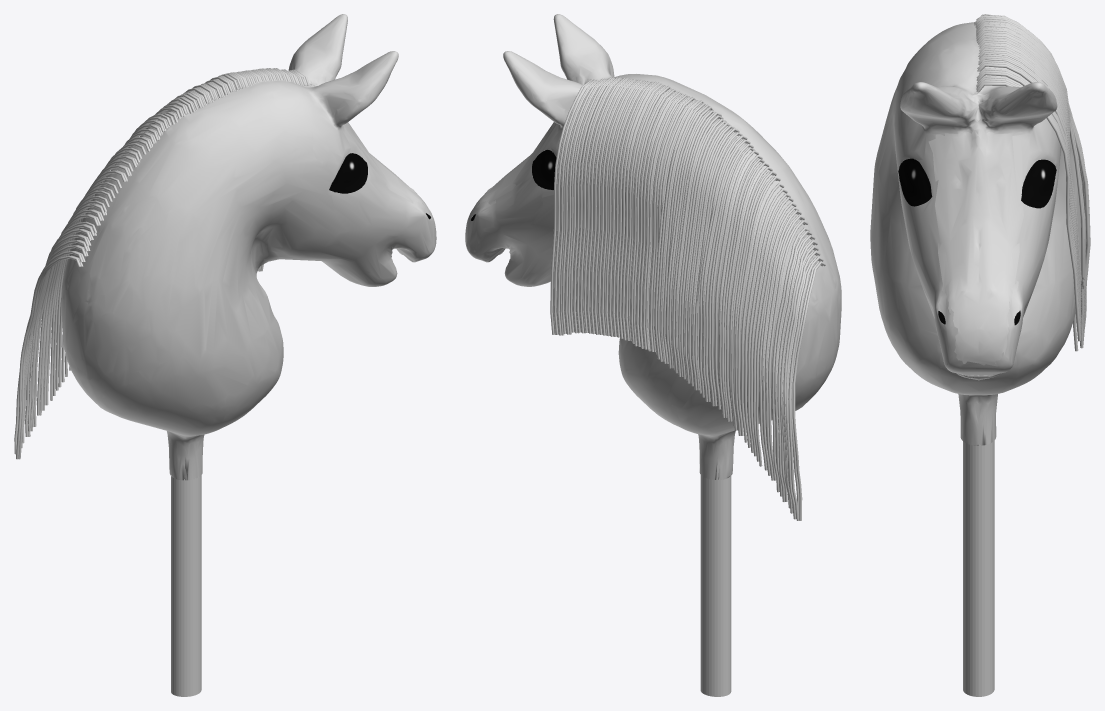
Rendered from calosc.glb.
3 views of the same model, side by side, from view 1: azimuth 30°, elevation 25°; view 2: azimuth 150°, elevation 25°; view 3: azimuth 270°, elevation 25° (orthographic). The views are drawn at different scales.
Parts seen in each view (by area): view 1: koń, grzywa, patyk, koń.001, oczy; view 2: grzywa, koń, patyk, koń.001, oczy; view 3: koń, koń.001, grzywa, patyk, oczy.
Boxes of the visible parts, x1,y1,x2,y2 form: koń: (61,14,436,480); grzywa: (14,68,309,459); patyk: (171,475,201,696); koń.001: (343,122,427,208); oczy: (329,153,367,193); grzywa: (550,77,825,520); koń: (465,14,841,479); patyk: (700,475,731,696); koń.001: (465,122,556,233); oczy: (532,150,556,189); koń: (870,22,1082,445); koń.001: (928,129,1025,366); grzywa: (974,14,1090,351); patyk: (963,441,994,696); oczy: (898,158,1056,208).
Size of the model in its own units: 0.6227 by 0.9846 by 0.277.
Materials: 1 (1 with a texture image).
